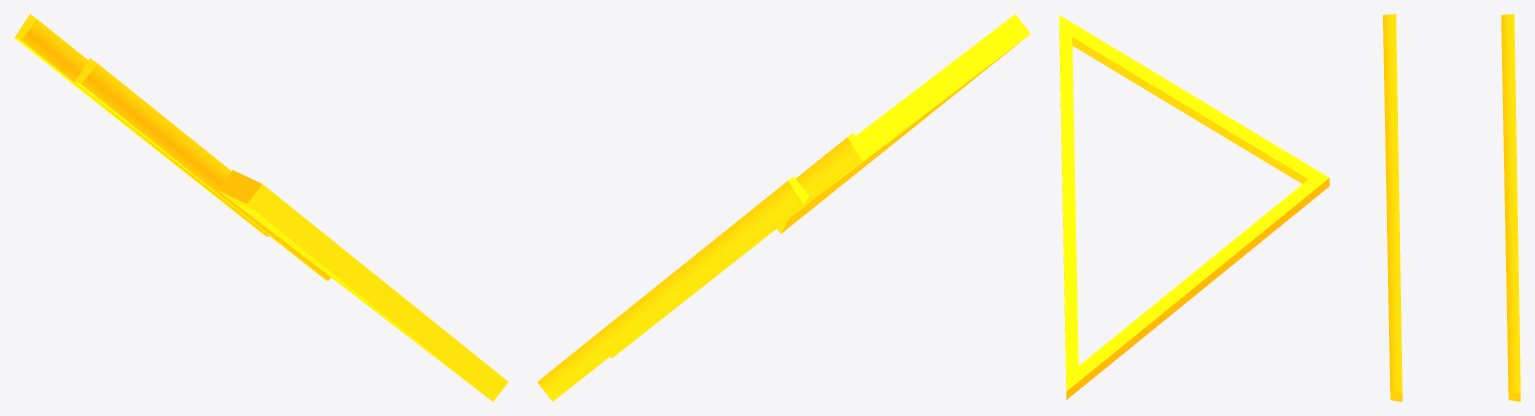
Rendered from podium_playpause_selected.glb.
3 views of the same model, side by side, from view 1: azimuth 30°, elevation 25°; view 2: azimuth 150°, elevation 25°; view 3: azimuth 270°, elevation 25° (orthographic).
Visible parts, largest first — view 1: Buttons.003; view 2: Buttons.003; view 3: Buttons.003.
Part boxes in pixels (bbox=[...]): Buttons.003: bbox=[14, 14, 508, 401]; Buttons.003: bbox=[537, 14, 1030, 401]; Buttons.003: bbox=[1059, 14, 1520, 401].
Size of the model in its own units: 0.0107 by 0.0108 by 0.0164.
